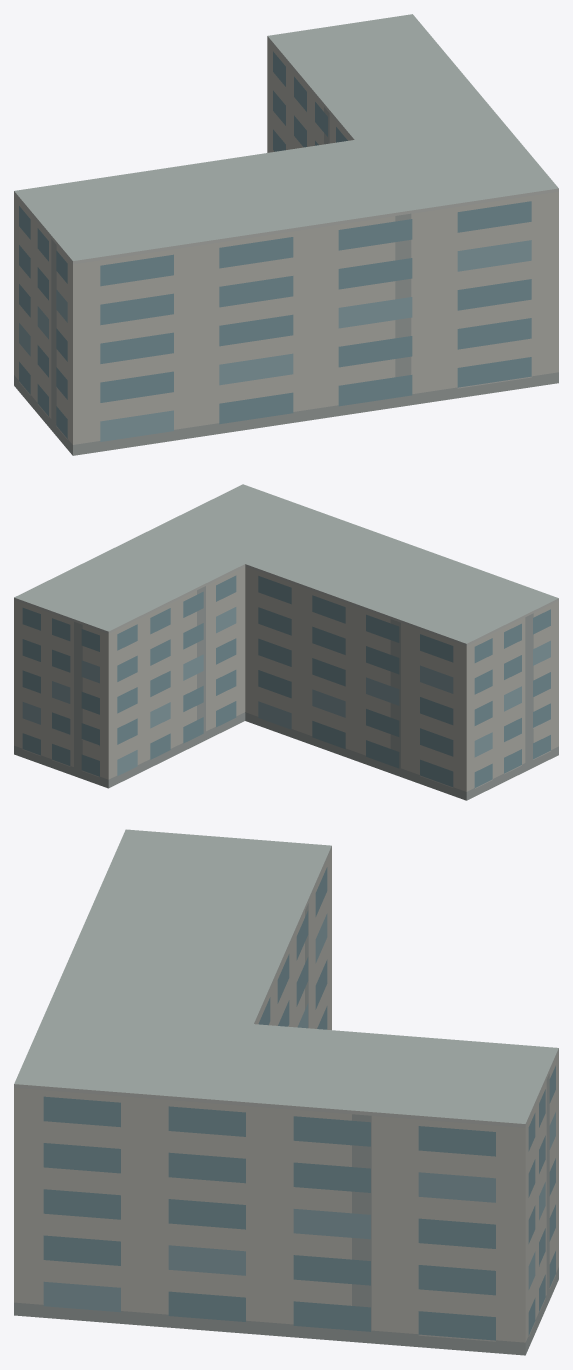
Rendered from residential-c8267bdc-8db9-44ab-90b0-c41c4b8f35cb.glb.
The picture shows the model from 3 angles, top to bottom: view 1: azimuth 30°, elevation 25°; view 2: azimuth 150°, elevation 25°; view 3: azimuth 270°, elevation 25°; orthographic projection. The views are drawn at different scales.
Visible parts, largest first — view 1: residential-c8267bdc-8db9-44ab-90b0-c41c4b8f35cb.tmp; view 2: residential-c8267bdc-8db9-44ab-90b0-c41c4b8f35cb.tmp; view 3: residential-c8267bdc-8db9-44ab-90b0-c41c4b8f35cb.tmp.
Part boxes in pixels (x1=…): residential-c8267bdc-8db9-44ab-90b0-c41c4b8f35cb.tmp: x1=14, y1=14, x2=558, y2=455; residential-c8267bdc-8db9-44ab-90b0-c41c4b8f35cb.tmp: x1=14, y1=484, x2=558, y2=800; residential-c8267bdc-8db9-44ab-90b0-c41c4b8f35cb.tmp: x1=14, y1=829, x2=558, y2=1355.
Bounding box in the file's own units: 41.66 × 15.25 × 32.55.
